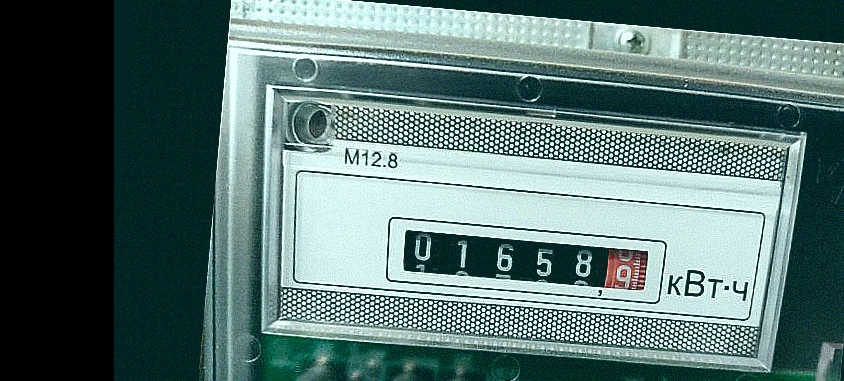0: (412, 228, 435, 262)
1: (455, 236, 471, 268)
5: (535, 244, 556, 278)
6: (495, 240, 518, 272)
8: (574, 246, 595, 279)
9: (613, 261, 633, 289)
screen: (376, 206, 673, 310)
